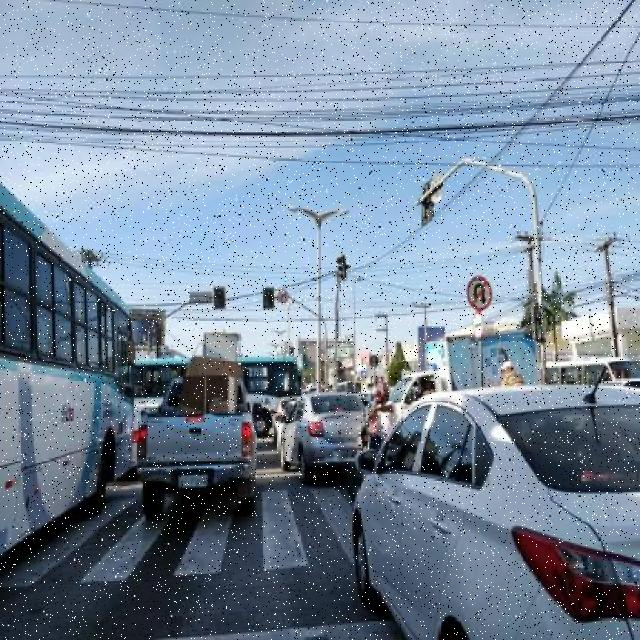traffic-light: (329, 255, 358, 291), (259, 286, 278, 314), (211, 283, 227, 313)
